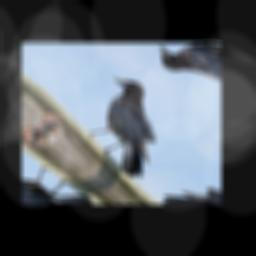Crow: (60, 70, 198, 182)
